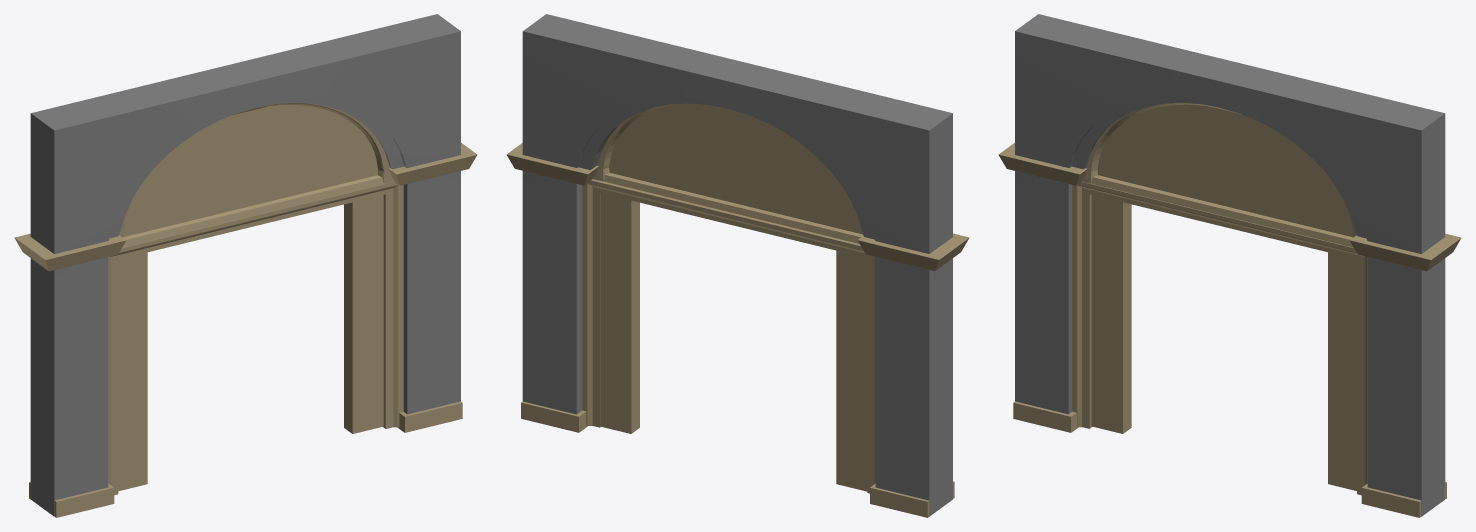
The model's file is SM_SM_BigDoorWall.fbx.
3 renders of one model, left to right at view 1: azimuth 30°, elevation 25°; view 2: azimuth 150°, elevation 25°; view 3: azimuth 330°, elevation 25°, orthographic.
Parts seen in each view (by area): view 1: SM_BigDoorWallShape; view 2: SM_BigDoorWallShape; view 3: SM_BigDoorWallShape.
Part boxes in pixels (bbox=[...]): SM_BigDoorWallShape: bbox=[14, 14, 477, 517]; SM_BigDoorWallShape: bbox=[506, 14, 969, 517]; SM_BigDoorWallShape: bbox=[998, 14, 1461, 517].
Bounding box in the file's own units: 423 × 361 × 51.97.
